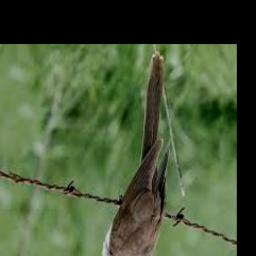Cuckoo: (86, 50, 169, 256)
